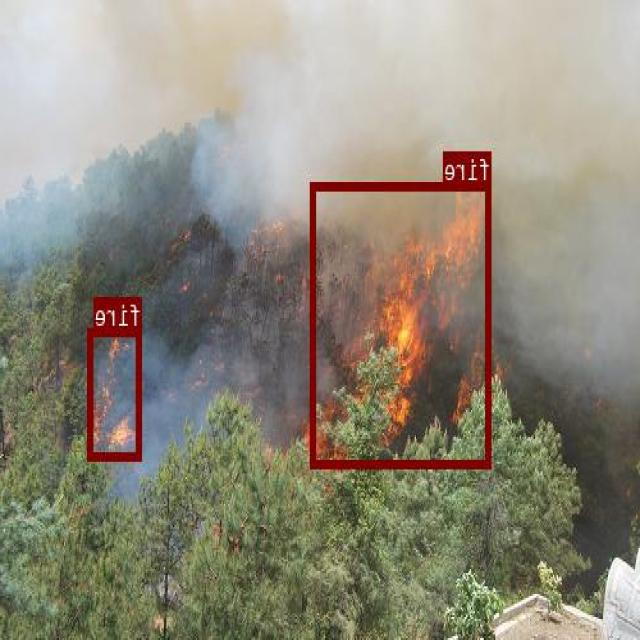fire: (311, 180, 492, 468), (89, 326, 142, 459)
